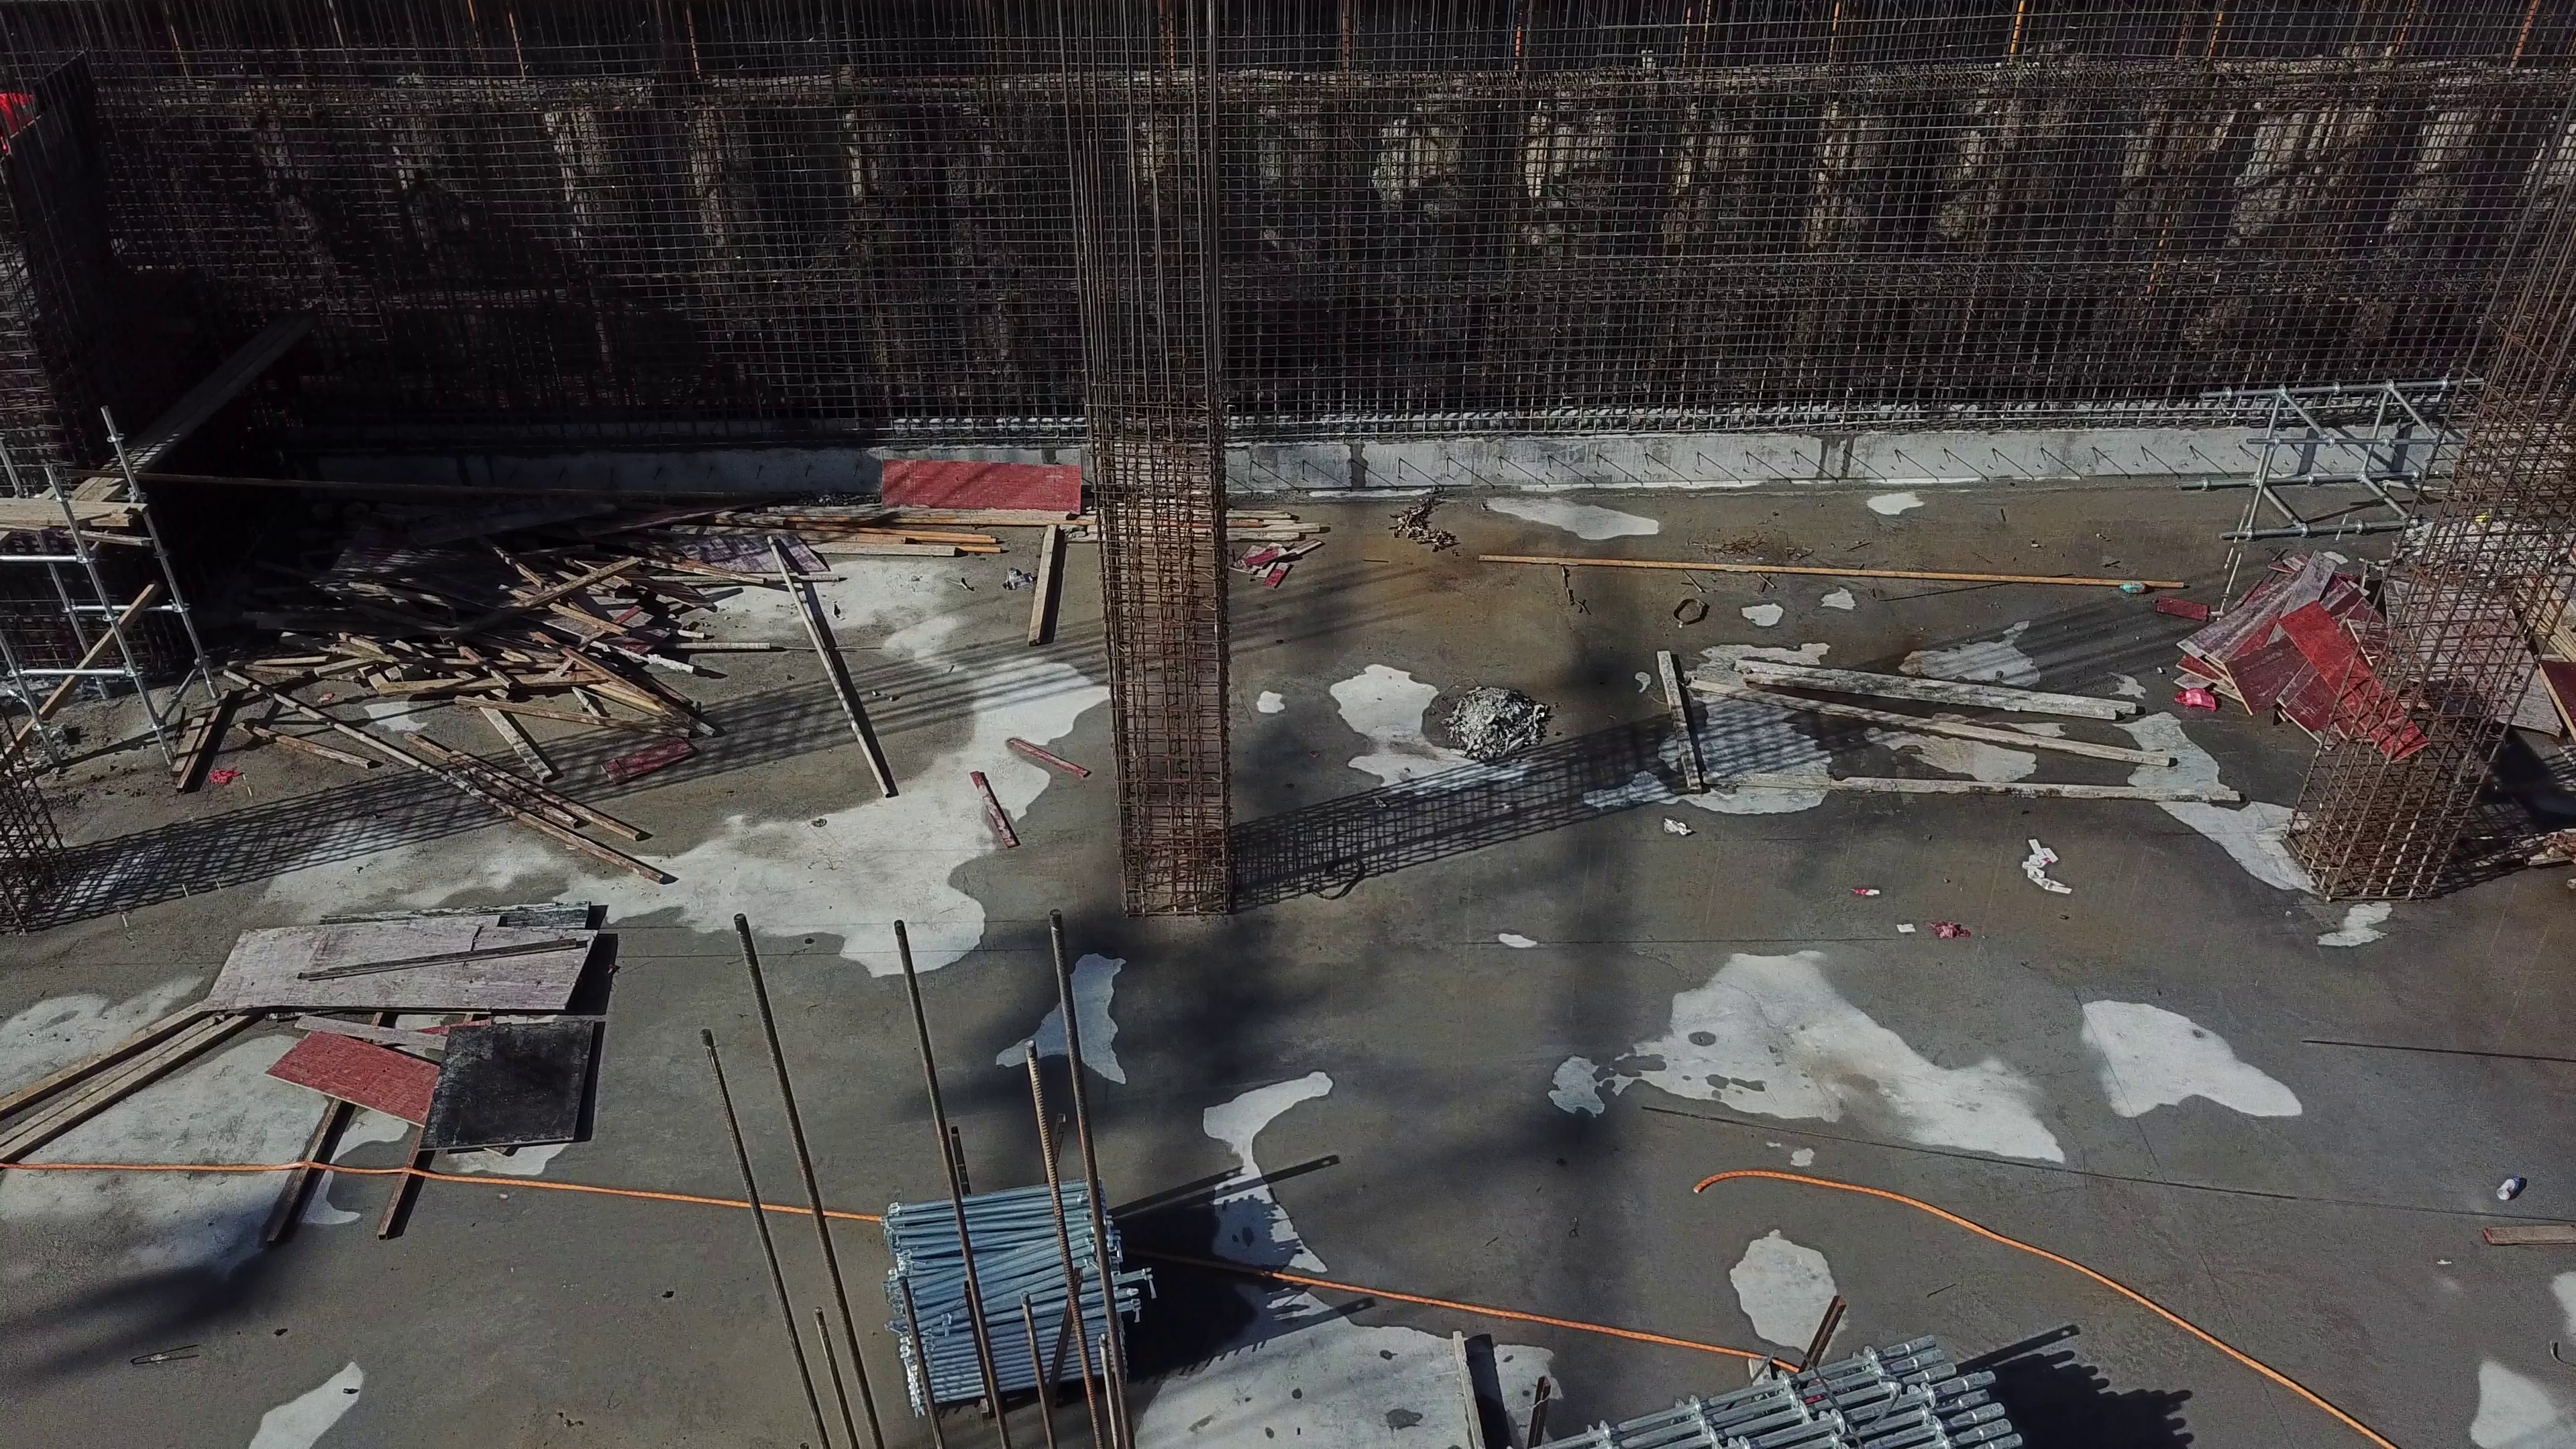scaffold: (893, 1171, 1148, 1412), (1552, 1329, 2019, 1449)
